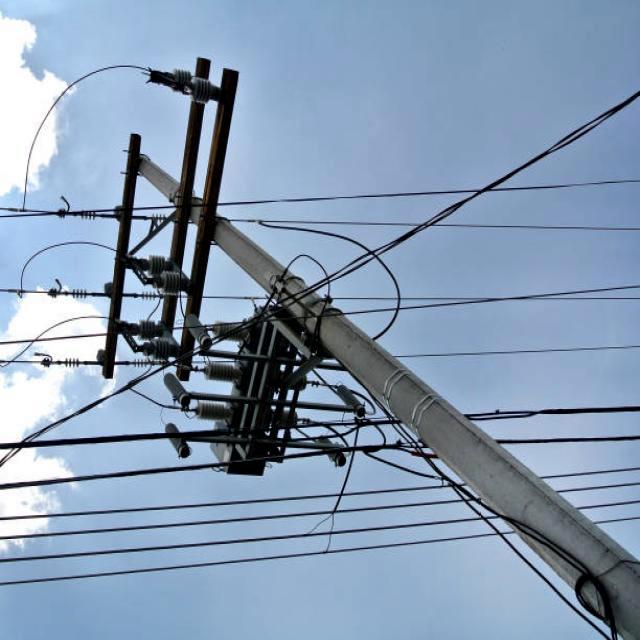Broken Pole: (25, 39, 640, 640)
